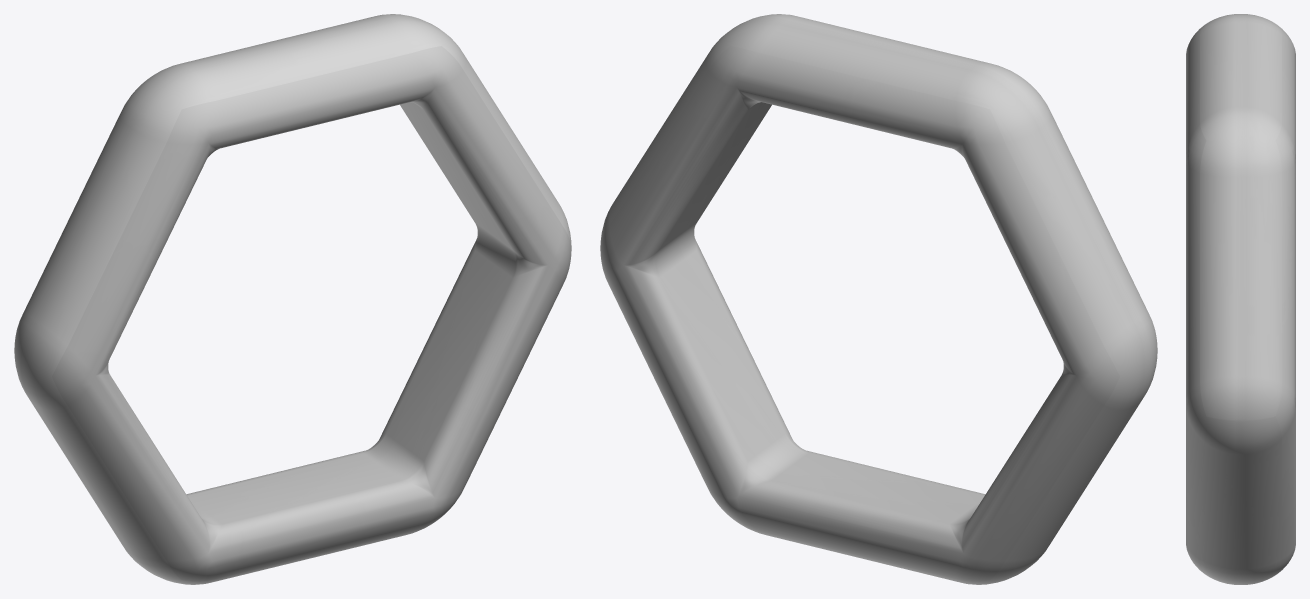
The model's file is NuovoSitoEsagonoMenuMainAzienda2.gltf.
The picture shows the model from 3 angles, left to right: view 1: azimuth 30°, elevation 25°; view 2: azimuth 150°, elevation 25°; view 3: azimuth 270°, elevation 25°; orthographic projection. The views are drawn at different scales.
Parts seen in each view (by area): view 1: Easgono Menu Main 01 - Azienda; view 2: Easgono Menu Main 01 - Azienda; view 3: Easgono Menu Main 01 - Azienda.
Boxes of the visible parts, bbox=[...] form: Easgono Menu Main 01 - Azienda: bbox=[14, 14, 571, 584]; Easgono Menu Main 01 - Azienda: bbox=[600, 14, 1157, 584]; Easgono Menu Main 01 - Azienda: bbox=[1186, 14, 1295, 584].
Size of the model in its own units: 1.53 by 1.38 by 0.2927.
1 material, 1 textured.
